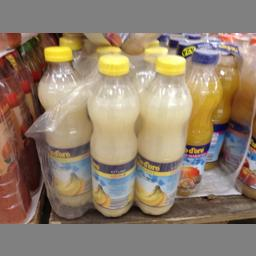juice: (136, 52, 193, 218), (36, 44, 90, 204), (86, 52, 137, 218)
